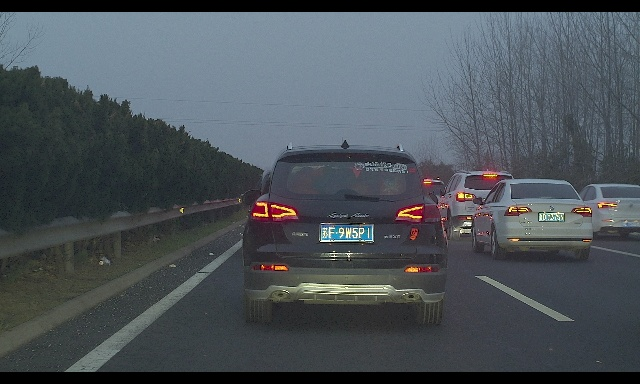car: (242, 140, 449, 326), (471, 179, 593, 260), (433, 169, 515, 241), (572, 184, 640, 237), (405, 178, 447, 225)
